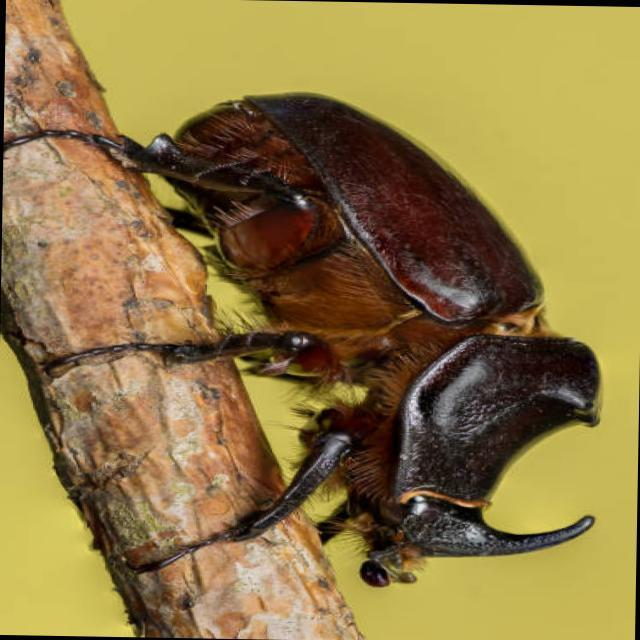Rhino-beetle: (127, 65, 612, 614)
